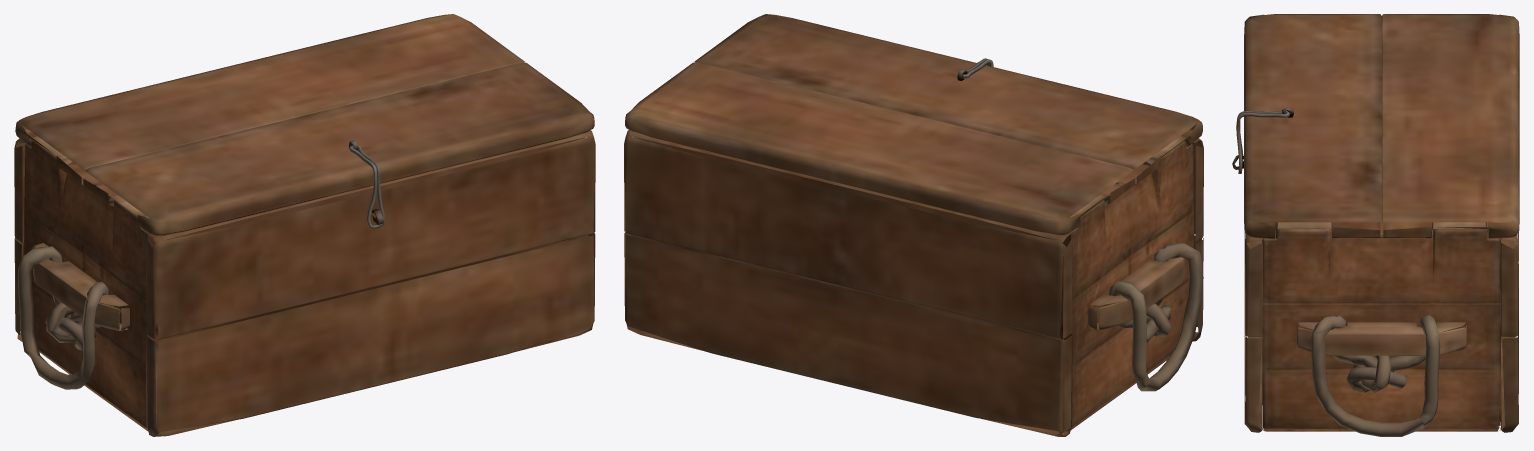
The model's file is crate_lo.glb.
3 renders of one model, left to right at view 1: azimuth 30°, elevation 25°; view 2: azimuth 150°, elevation 25°; view 3: azimuth 270°, elevation 25°, orthographic. The views are drawn at different scales.
Visible parts, largest first — view 1: wooden_crate_01, wooden_crate_01_lid, wooden_crate_01_latch; view 2: wooden_crate_01, wooden_crate_01_lid; view 3: wooden_crate_01_lid, wooden_crate_01, wooden_crate_01_latch.
Boxes of the visible parts, x1=… form: wooden_crate_01: x1=14, y1=130, x2=595, y2=436; wooden_crate_01_lid: x1=15, y1=14, x2=594, y2=236; wooden_crate_01_latch: x1=349, y1=145, x2=384, y2=228; wooden_crate_01: x1=624, y1=130, x2=1203, y2=436; wooden_crate_01_lid: x1=625, y1=14, x2=1202, y2=235; wooden_crate_01_lid: x1=1244, y1=14, x2=1519, y2=238; wooden_crate_01: x1=1232, y1=155, x2=1518, y2=436; wooden_crate_01_latch: x1=1236, y1=111, x2=1289, y2=173.
Bounding box in the file's own units: 0.8253 × 0.3496 × 0.409.
Materials: 1 (1 with a texture image).
